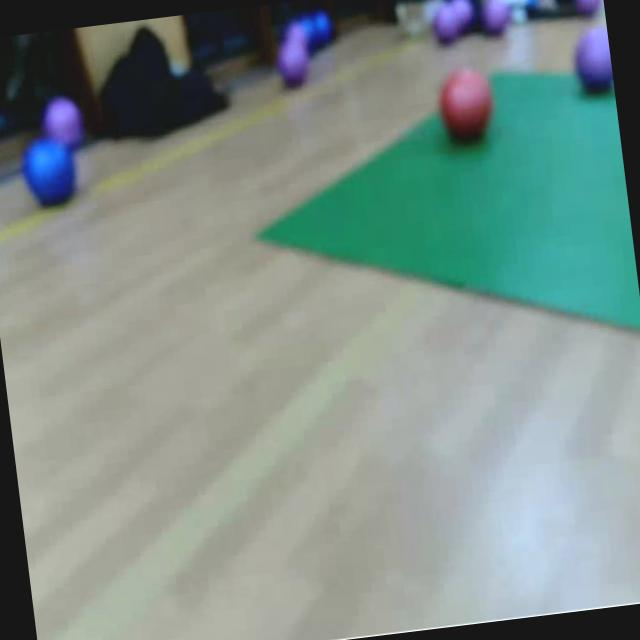blue_ball: (22, 138, 78, 208)
purple_ball: (573, 28, 614, 92), (44, 95, 84, 148), (275, 40, 312, 90)
red_ball: (435, 66, 497, 144)
